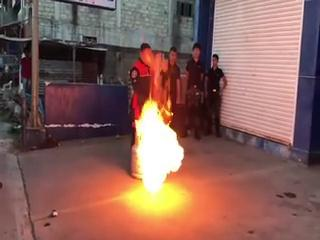Fire: (127, 87, 185, 195)
